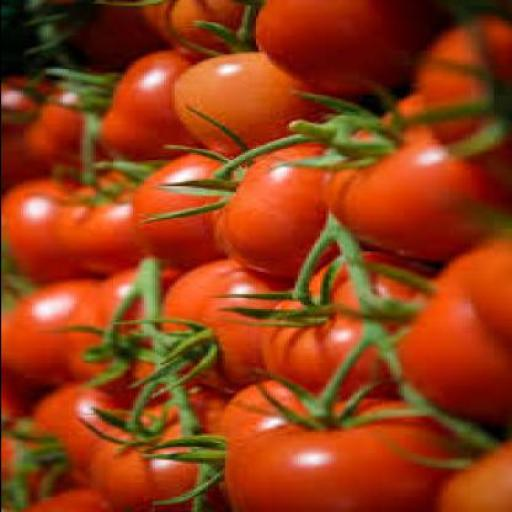biodegradable: (1, 1, 510, 511), (137, 382, 470, 510), (135, 110, 344, 281), (215, 252, 442, 409), (311, 98, 498, 266), (383, 208, 509, 422), (165, 6, 327, 160), (240, 2, 459, 104), (40, 268, 194, 410), (36, 50, 204, 165), (408, 8, 510, 182), (82, 390, 222, 511), (148, 261, 266, 396), (2, 281, 104, 428), (6, 384, 120, 502), (389, 418, 511, 511), (1, 76, 107, 175), (12, 2, 159, 73), (0, 179, 79, 292), (59, 172, 143, 278), (456, 201, 509, 348), (142, 2, 260, 61), (2, 487, 104, 511)
